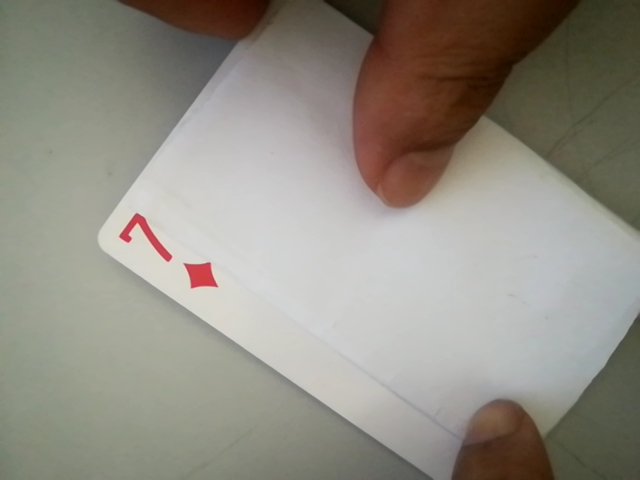fk 7: (107, 208, 234, 299)
